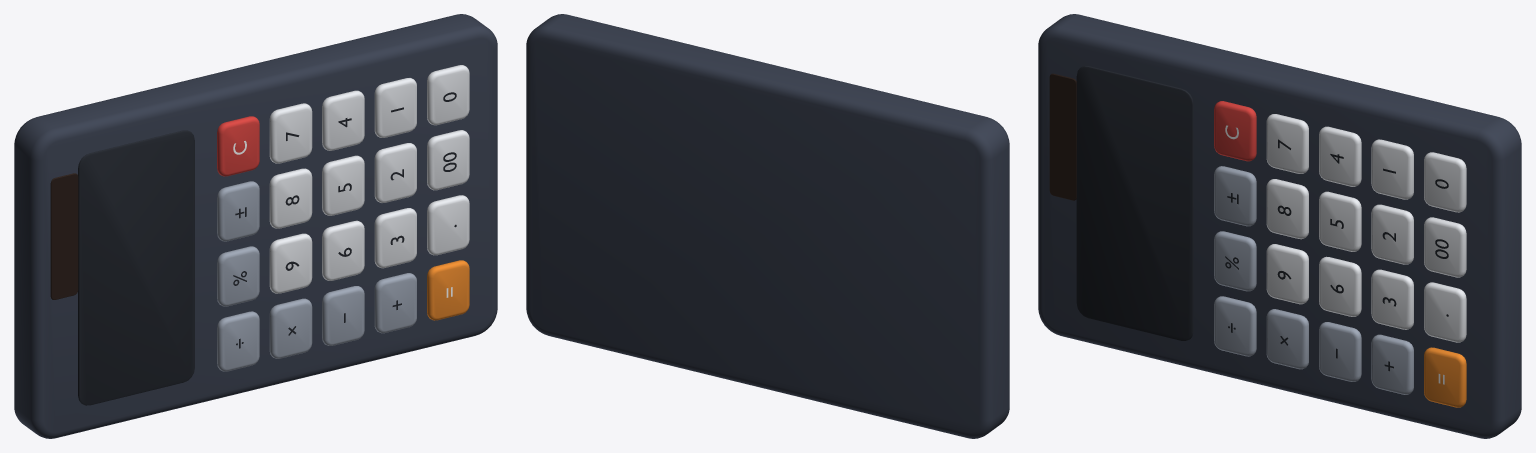
File: tool-calc.glb
3 renders of one model, left to right at view 1: azimuth 30°, elevation 25°; view 2: azimuth 150°, elevation 25°; view 3: azimuth 330°, elevation 25°, orthographic.
Visible parts, largest first — view 1: Body, LcdBezel, Solar, Key_1_3, Key_1_0, Key_1_2, Key_4_2, Key_1_1, Key_0_3, Key_2_3, Key_4_3, Key_3_3 (+11 smaller); view 2: Body; view 3: Body, LcdBezel, Solar, Key_4_2, Key_0_3, Key_2_3, Key_3_0, Key_4_3, Key_1_3, Key_3_3, Key_0_1, Key_2_0 (+11 smaller).
Part boxes in pixels (bbox=[...]): Body: bbox=[14, 14, 497, 438]; LcdBezel: bbox=[78, 130, 194, 405]; Solar: bbox=[50, 173, 78, 299]; Key_1_3: bbox=[269, 298, 312, 358]; Key_1_0: bbox=[269, 103, 312, 163]; Key_1_2: bbox=[269, 233, 312, 293]; Key_4_2: bbox=[427, 195, 469, 255]; Key_1_1: bbox=[269, 168, 312, 228]; Key_0_3: bbox=[217, 311, 259, 371]; Key_2_3: bbox=[322, 286, 364, 345]; Key_4_3: bbox=[427, 260, 469, 320]; Key_3_3: bbox=[374, 273, 416, 333]; Body: bbox=[526, 14, 1009, 438]; Body: bbox=[1038, 14, 1521, 438]; LcdBezel: bbox=[1076, 66, 1193, 340]; Solar: bbox=[1049, 73, 1076, 200]; Key_4_2: bbox=[1424, 282, 1466, 342]; Key_0_3: bbox=[1214, 296, 1256, 356]; Key_2_3: bbox=[1319, 322, 1361, 381]; Key_3_0: bbox=[1371, 139, 1413, 199]; Key_4_3: bbox=[1424, 347, 1466, 407]; Key_1_3: bbox=[1266, 309, 1308, 369]; Key_3_3: bbox=[1371, 334, 1413, 394]; Key_0_1: bbox=[1214, 166, 1256, 226]; Key_2_0: bbox=[1319, 126, 1361, 186].
Size of the model in its own units: 0.12 by 0.076 by 0.0126.
